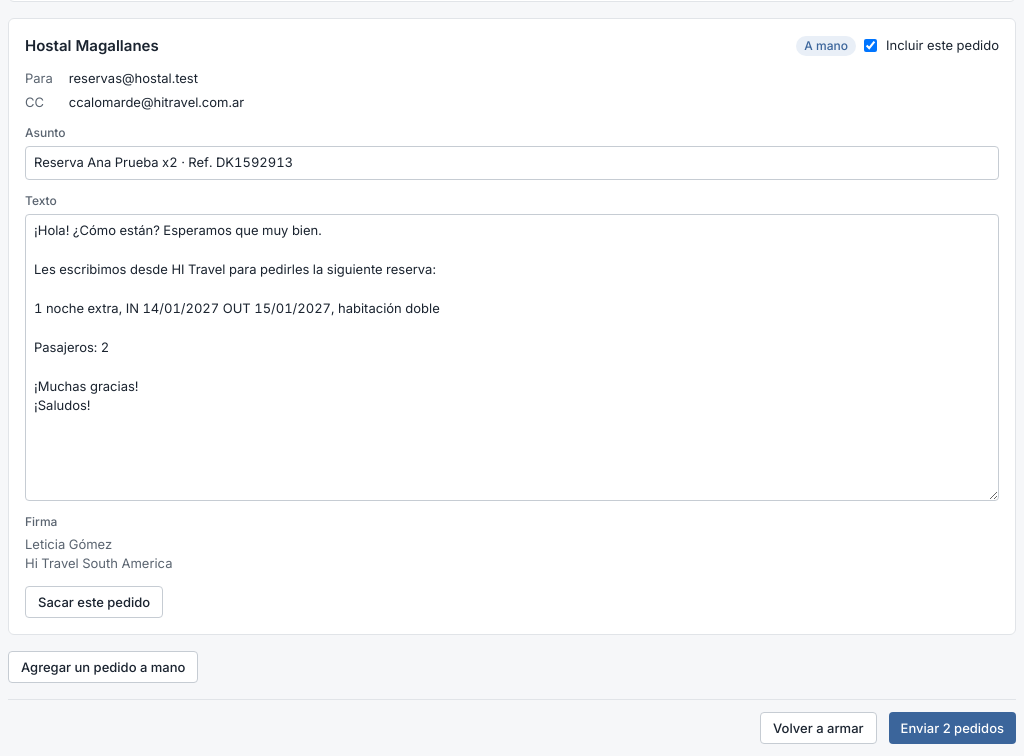
Test: sacar (fila 8) › con confirmación lo saca de la lista
(page scrolled)
Click the button "Sacar este pedido" at coordinates (94, 602), box [25,586,163,618]
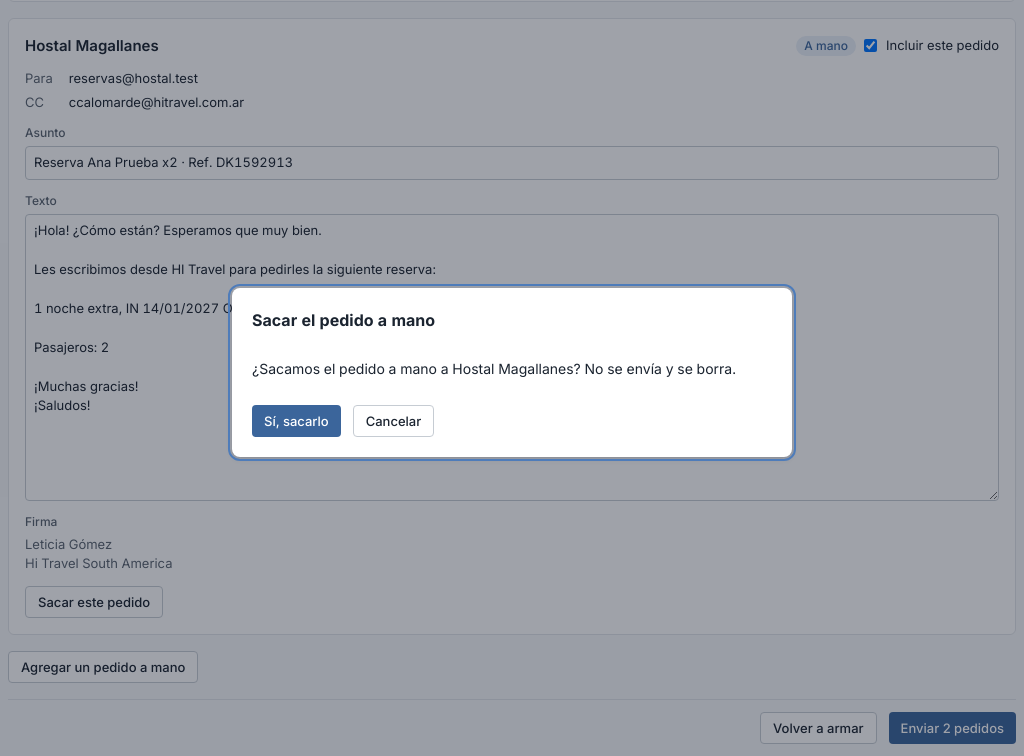
Click the button "Sí, sacarlo" at coordinates (296, 420), box [252,404,341,436]
(page scrolled)
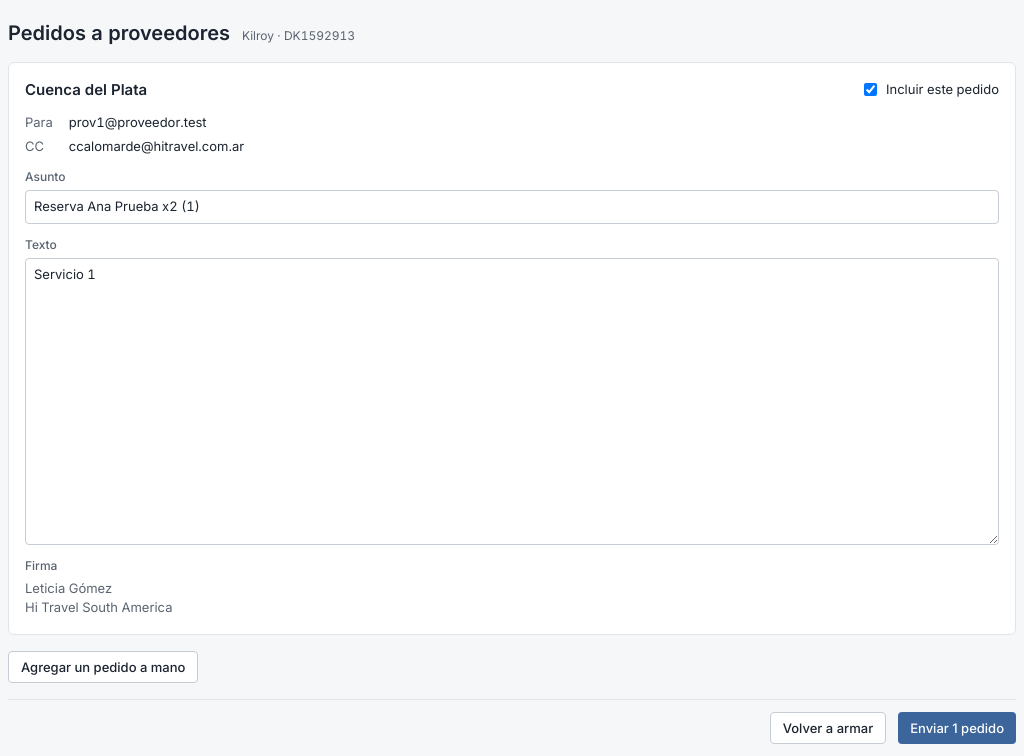
Expected: the heading "Hostal Magallanes" is gone
Expected: the button "Enviar 1 pedido" is shown, [898,712,1016,744]
